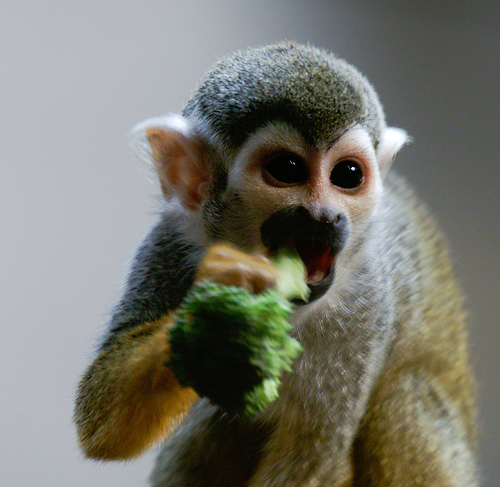broccoli: (164, 250, 312, 415)
